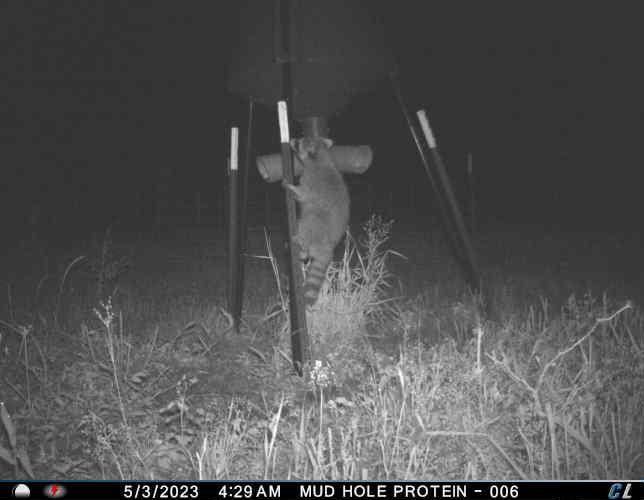Raccoon: (281, 133, 356, 305)
